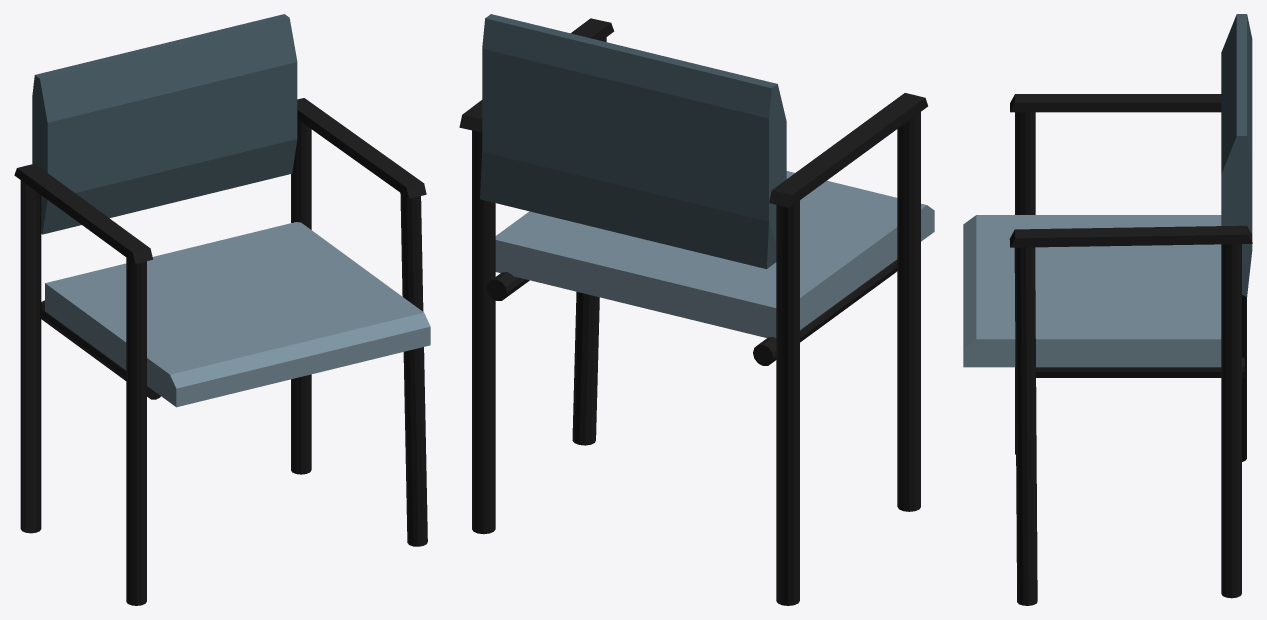
3 views of the same model, side by side, from view 1: azimuth 30°, elevation 25°; view 2: azimuth 150°, elevation 25°; view 3: azimuth 270°, elevation 25° (orthographic). The views are drawn at different scales.
Size of the model in its own units: 0.6723 by 0.9725 by 0.5606.
